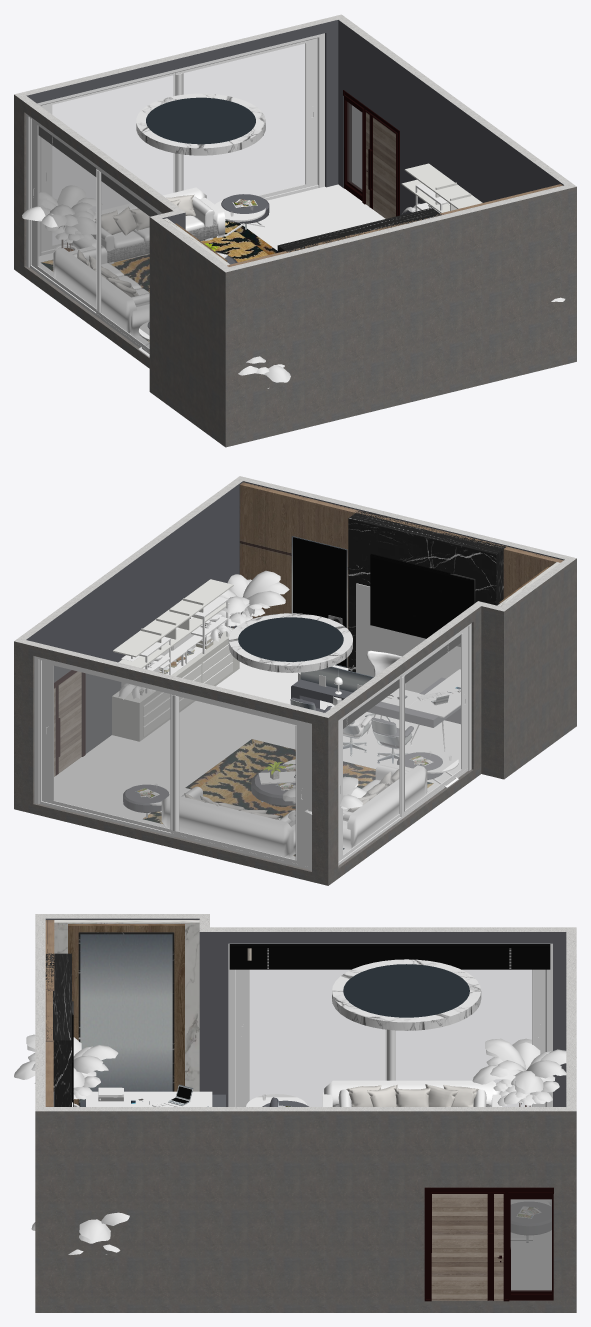
Rendered from Cabin_1.glb.
The picture shows the model from 3 angles, top to bottom: view 1: azimuth 30°, elevation 25°; view 2: azimuth 150°, elevation 25°; view 3: azimuth 270°, elevation 25°; orthographic projection. The views are drawn at different scales.
Parts seen in each view (by area): view 1: Object_68, Object_19, Object_40, Object_5, Object_22, Object_34, Object_23, Object_2, Object_57, Object_17, Object_60, Object_8 (+9 smaller); view 2: Object_19, Object_68, Object_23, Object_40, Object_5, Object_22, Object_13, Object_10, Object_34, Object_6, Object_21, Object_48 (+12 smaller); view 3: Object_68, Object_19, Object_44, Object_40, Object_34, Object_48, Object_57, Object_60, Object_5, Object_2, Object_61, Object_22 (+9 smaller).
Boxes of the visible parts, box(x1,y1,x2,y2) form: Object_68: box(14, 94, 576, 447); Object_19: box(38, 43, 305, 347); Object_40: box(26, 20, 563, 229); Object_5: box(31, 38, 449, 357); Object_22: box(26, 33, 324, 353); Object_34: box(14, 14, 576, 272); Object_23: box(38, 184, 385, 347); Object_2: box(146, 97, 255, 144); Object_57: box(22, 185, 565, 388); Object_17: box(136, 93, 265, 155); Object_60: box(366, 112, 395, 218); Object_8: box(41, 220, 277, 341); Object_19: box(53, 635, 461, 859); Object_68: box(14, 558, 576, 885); Object_23: box(54, 662, 460, 859); Object_40: box(26, 481, 564, 753); Object_5: box(42, 597, 467, 866); Object_22: box(34, 623, 471, 870); Object_13: box(171, 482, 563, 667); Object_10: box(348, 511, 505, 672); Object_34: box(14, 476, 576, 717); Object_6: box(370, 553, 475, 646); Object_21: box(113, 579, 233, 736); Object_48: box(293, 537, 460, 728); Object_68: box(35, 1111, 576, 1312); Object_19: box(249, 969, 531, 1106); Object_44: box(80, 934, 172, 1106); Object_40: box(45, 918, 566, 1106); Object_34: box(35, 914, 576, 1111); Object_48: box(171, 944, 550, 1103); Object_57: box(14, 1034, 576, 1254); Object_60: box(431, 1194, 503, 1300); Object_5: box(86, 969, 549, 1240); Object_2: box(343, 964, 469, 1017); Object_61: box(424, 1187, 553, 1301); Object_22: box(175, 943, 552, 1206).
Size of the model in its own units: 9.4 by 4.25 by 10.77.
67 materials, 37 textured.
